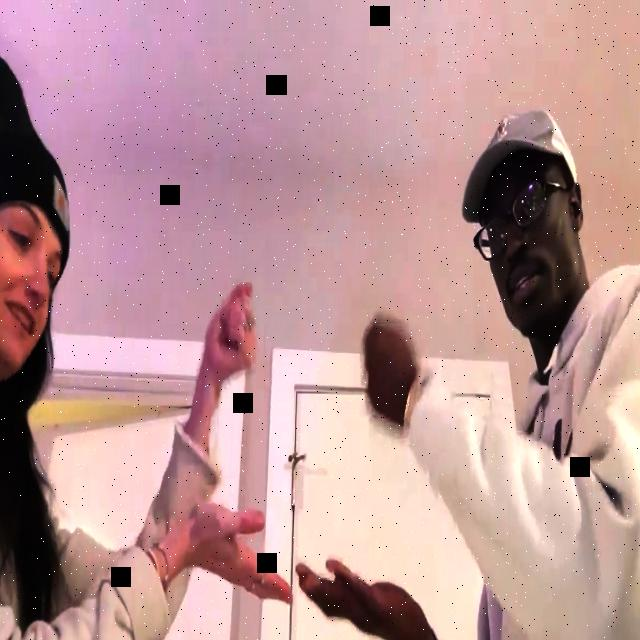Rock: (363, 319, 417, 427), (207, 280, 256, 378)
